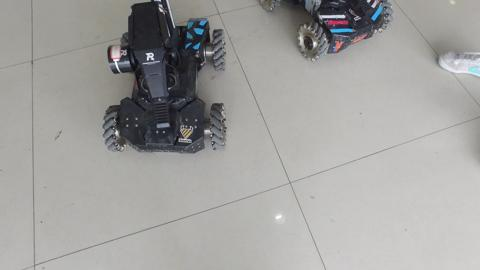chariot: (97, 1, 230, 160), (263, 1, 394, 63)
